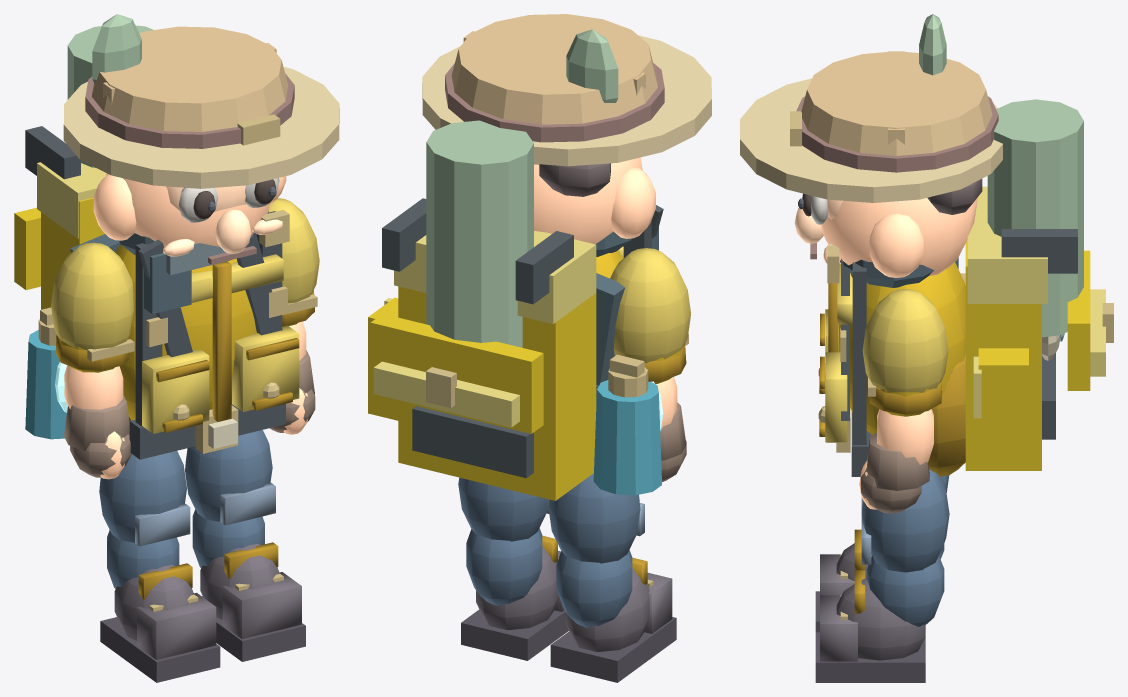
File: explorer.gltf
3 renders of one model, left to right at view 1: azimuth 30°, elevation 25°; view 2: azimuth 150°, elevation 25°; view 3: azimuth 270°, elevation 25°, orthographic. The views are drawn at different scales.
Visible parts, largest first — view 1: ExplorerBody, ExplorerHead, ExplorerKneeLeft, ExplorerKneeRight, ExplorerArmLeft, ExplorerLegLeft, ExplorerLegRight, ExplorerElbowLeft, ExplorerArmRight, ExplorerPackFlap, ExplorerEyes, ExplorerElbowRight; view 2: ExplorerBody, ExplorerHead, ExplorerPackFlap, ExplorerKneeLeft, ExplorerKneeRight, ExplorerArmLeft, ExplorerLegLeft, ExplorerLegRight, ExplorerScarfTail, ExplorerElbowLeft; view 3: ExplorerBody, ExplorerHead, ExplorerKneeRight, ExplorerArmRight, ExplorerElbowRight, ExplorerLegRight, ExplorerPackFlap, ExplorerKneeLeft, ExplorerEyes.
Part boxes in pixels (x1,y1,x2,y2): ExplorerBody: [25, 25, 299, 459]; ExplorerHead: [63, 14, 339, 264]; ExplorerKneeLeft: [100, 530, 220, 682]; ExplorerKneeRight: [192, 509, 305, 661]; ExplorerArmLeft: [51, 242, 134, 372]; ExplorerLegLeft: [99, 451, 190, 546]; ExplorerLegRight: [185, 430, 275, 525]; ExplorerElbowLeft: [64, 365, 131, 479]; ExplorerArmRight: [268, 198, 319, 326]; ExplorerPackFlap: [14, 207, 40, 289]; ExplorerEyes: [179, 178, 279, 222]; ExplorerElbowRight: [269, 321, 315, 434]; ExplorerBody: [368, 120, 663, 500]; ExplorerHead: [422, 14, 711, 244]; ExplorerPackFlap: [370, 314, 543, 433]; ExplorerKneeLeft: [550, 550, 676, 682]; ExplorerKneeRight: [461, 528, 568, 660]; ExplorerArmLeft: [610, 248, 690, 383]; ExplorerLegLeft: [548, 473, 644, 563]; ExplorerLegRight: [458, 477, 549, 541]; ExplorerScarfTail: [596, 273, 625, 402]; ExplorerElbowLeft: [655, 377, 686, 481]; ExplorerBody: [818, 99, 1083, 476]; ExplorerHead: [740, 14, 1002, 277]; ExplorerKneeRight: [815, 556, 944, 682]; ExplorerArmRight: [862, 289, 948, 416]; ExplorerElbowRight: [859, 409, 933, 513]; ExplorerLegRight: [861, 469, 949, 572]; ExplorerPackFlap: [1067, 250, 1113, 390]; ExplorerKneeLeft: [815, 529, 944, 632]; ExplorerEyes: [798, 193, 827, 224].
Size of the model in its own units: 1.29 by 2.98 by 1.66.
